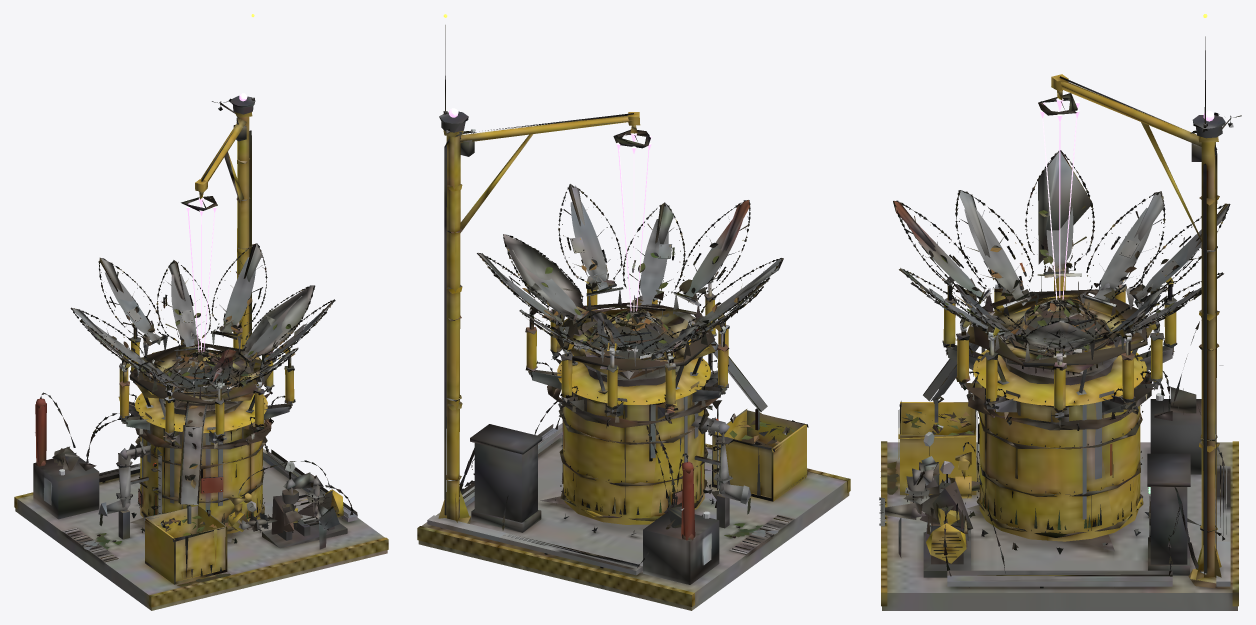
Rendered from coletor_chuva.glb.
3 renders of one model, left to right at view 1: azimuth 30°, elevation 25°; view 2: azimuth 150°, elevation 25°; view 3: azimuth 270°, elevation 25°, orthographic. The views are drawn at different scales.
Visible parts, largest first — view 1: coletor_chuva_corpo, antena_luz; view 2: coletor_chuva_corpo, antena_luz; view 3: coletor_chuva_corpo, antena_luz.
Part boxes in pixels (x1,y1,x2,y2): coletor_chuva_corpo: [14, 96, 388, 610]; antena_luz: [186, 14, 254, 352]; coletor_chuva_corpo: [417, 25, 850, 610]; antena_luz: [443, 14, 651, 311]; coletor_chuva_corpo: [879, 36, 1238, 610]; antena_luz: [1040, 14, 1214, 493].
Size of the model in its own units: 1.98 by 3.58 by 1.99.
Materials: 4 (1 with a texture image).
